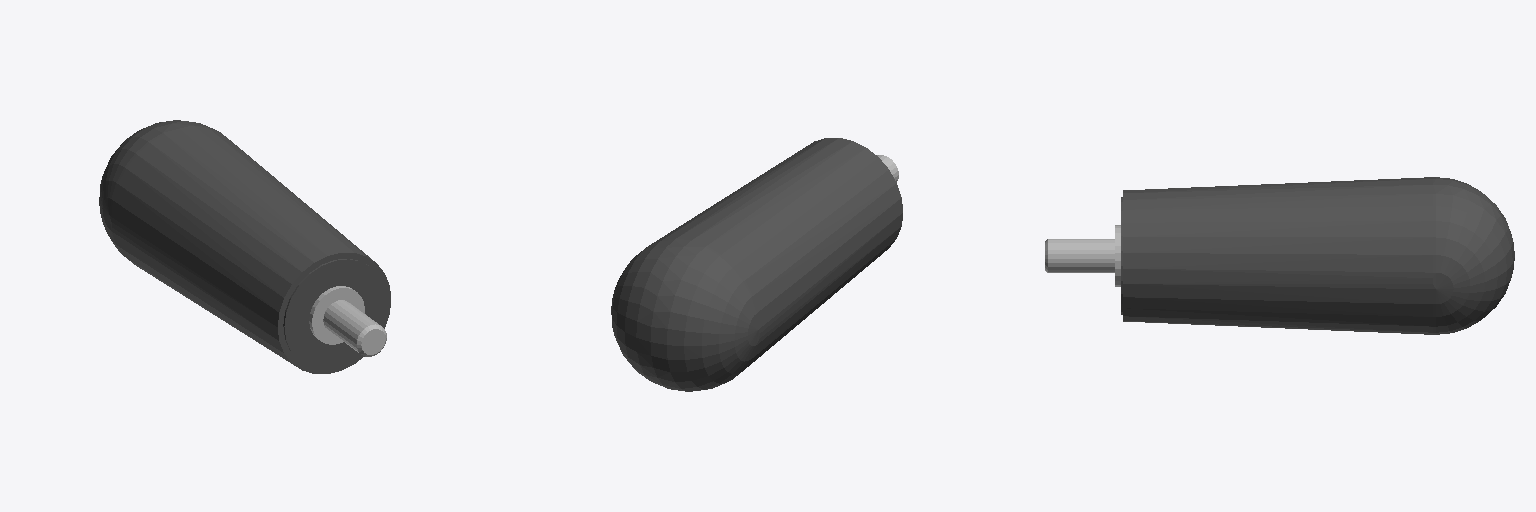
File: gn_798_3-kt-36-m8-sga.obj
The picture shows the model from 3 angles: view 1: azimuth 30°, elevation 25°; view 2: azimuth 150°, elevation 25°; view 3: azimuth 270°, elevation 25°; orthographic projection.
Visible parts, largest first — view 1: gn_798_3-kt-36-m8-sga_1; view 2: gn_798_3-kt-36-m8-sga_1; view 3: gn_798_3-kt-36-m8-sga_1.
Part boxes in pixels (left/top/right/bottom): gn_798_3-kt-36-m8-sga_1: left=99, top=120, right=390, bottom=373; gn_798_3-kt-36-m8-sga_1: left=611, top=138, right=902, bottom=391; gn_798_3-kt-36-m8-sga_1: left=1045, top=177, right=1514, bottom=334.
Bounding box in the file's own units: 36.03 × 36 × 107.